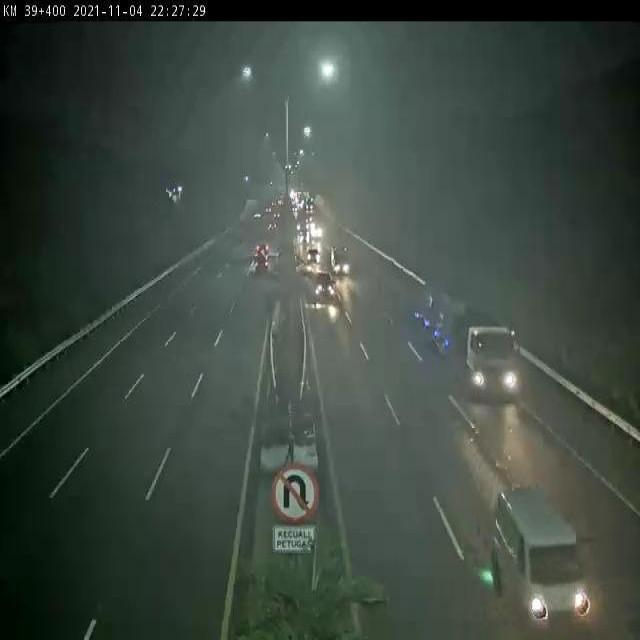car: (491, 489, 591, 627), (313, 271, 334, 297), (254, 256, 271, 275)
truck: (410, 283, 515, 396), (330, 244, 350, 276)
